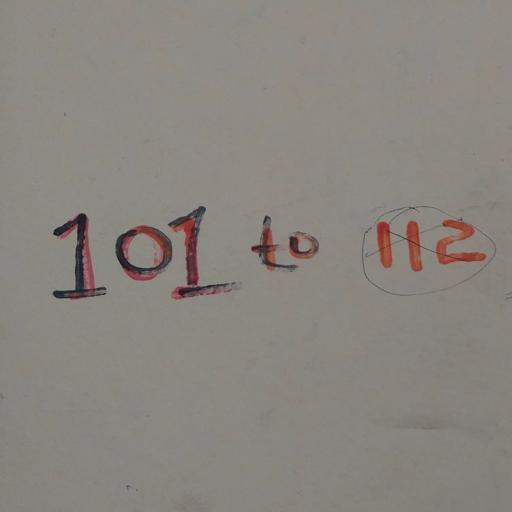stain: (55, 205, 512, 321)
